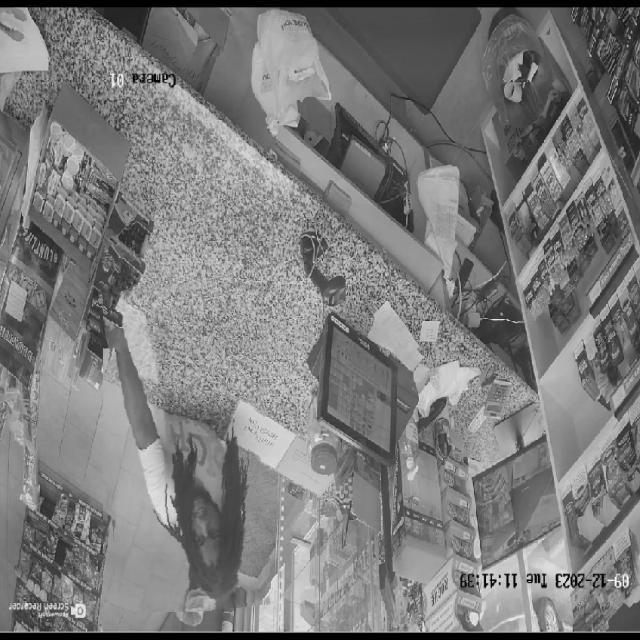normal: (103, 281, 268, 612)
